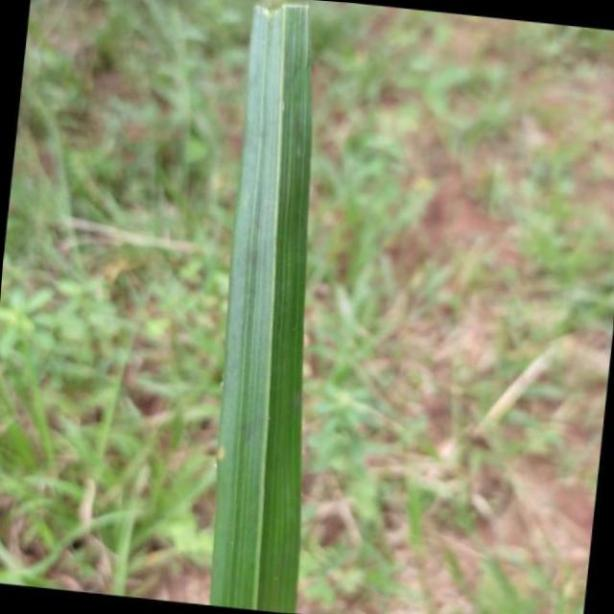Boron: (205, 0, 315, 614)
